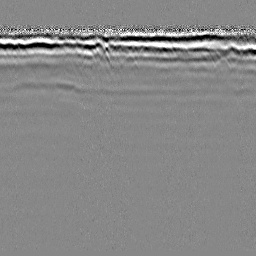cavity: (119, 52, 139, 68)
